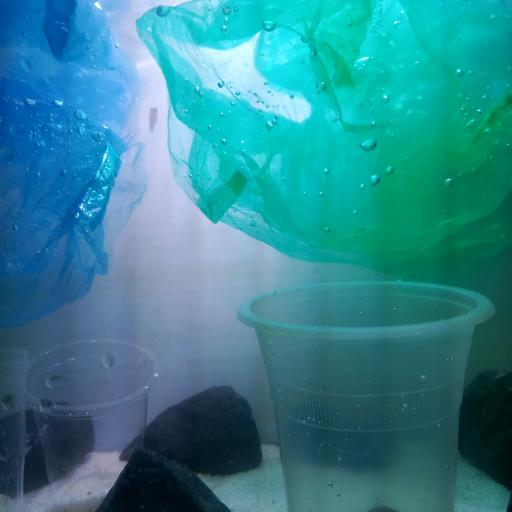plastic_bag: (132, 0, 512, 279), (1, 0, 141, 332)
plastic_cup: (236, 279, 496, 512), (12, 337, 161, 512), (1, 346, 31, 512)
